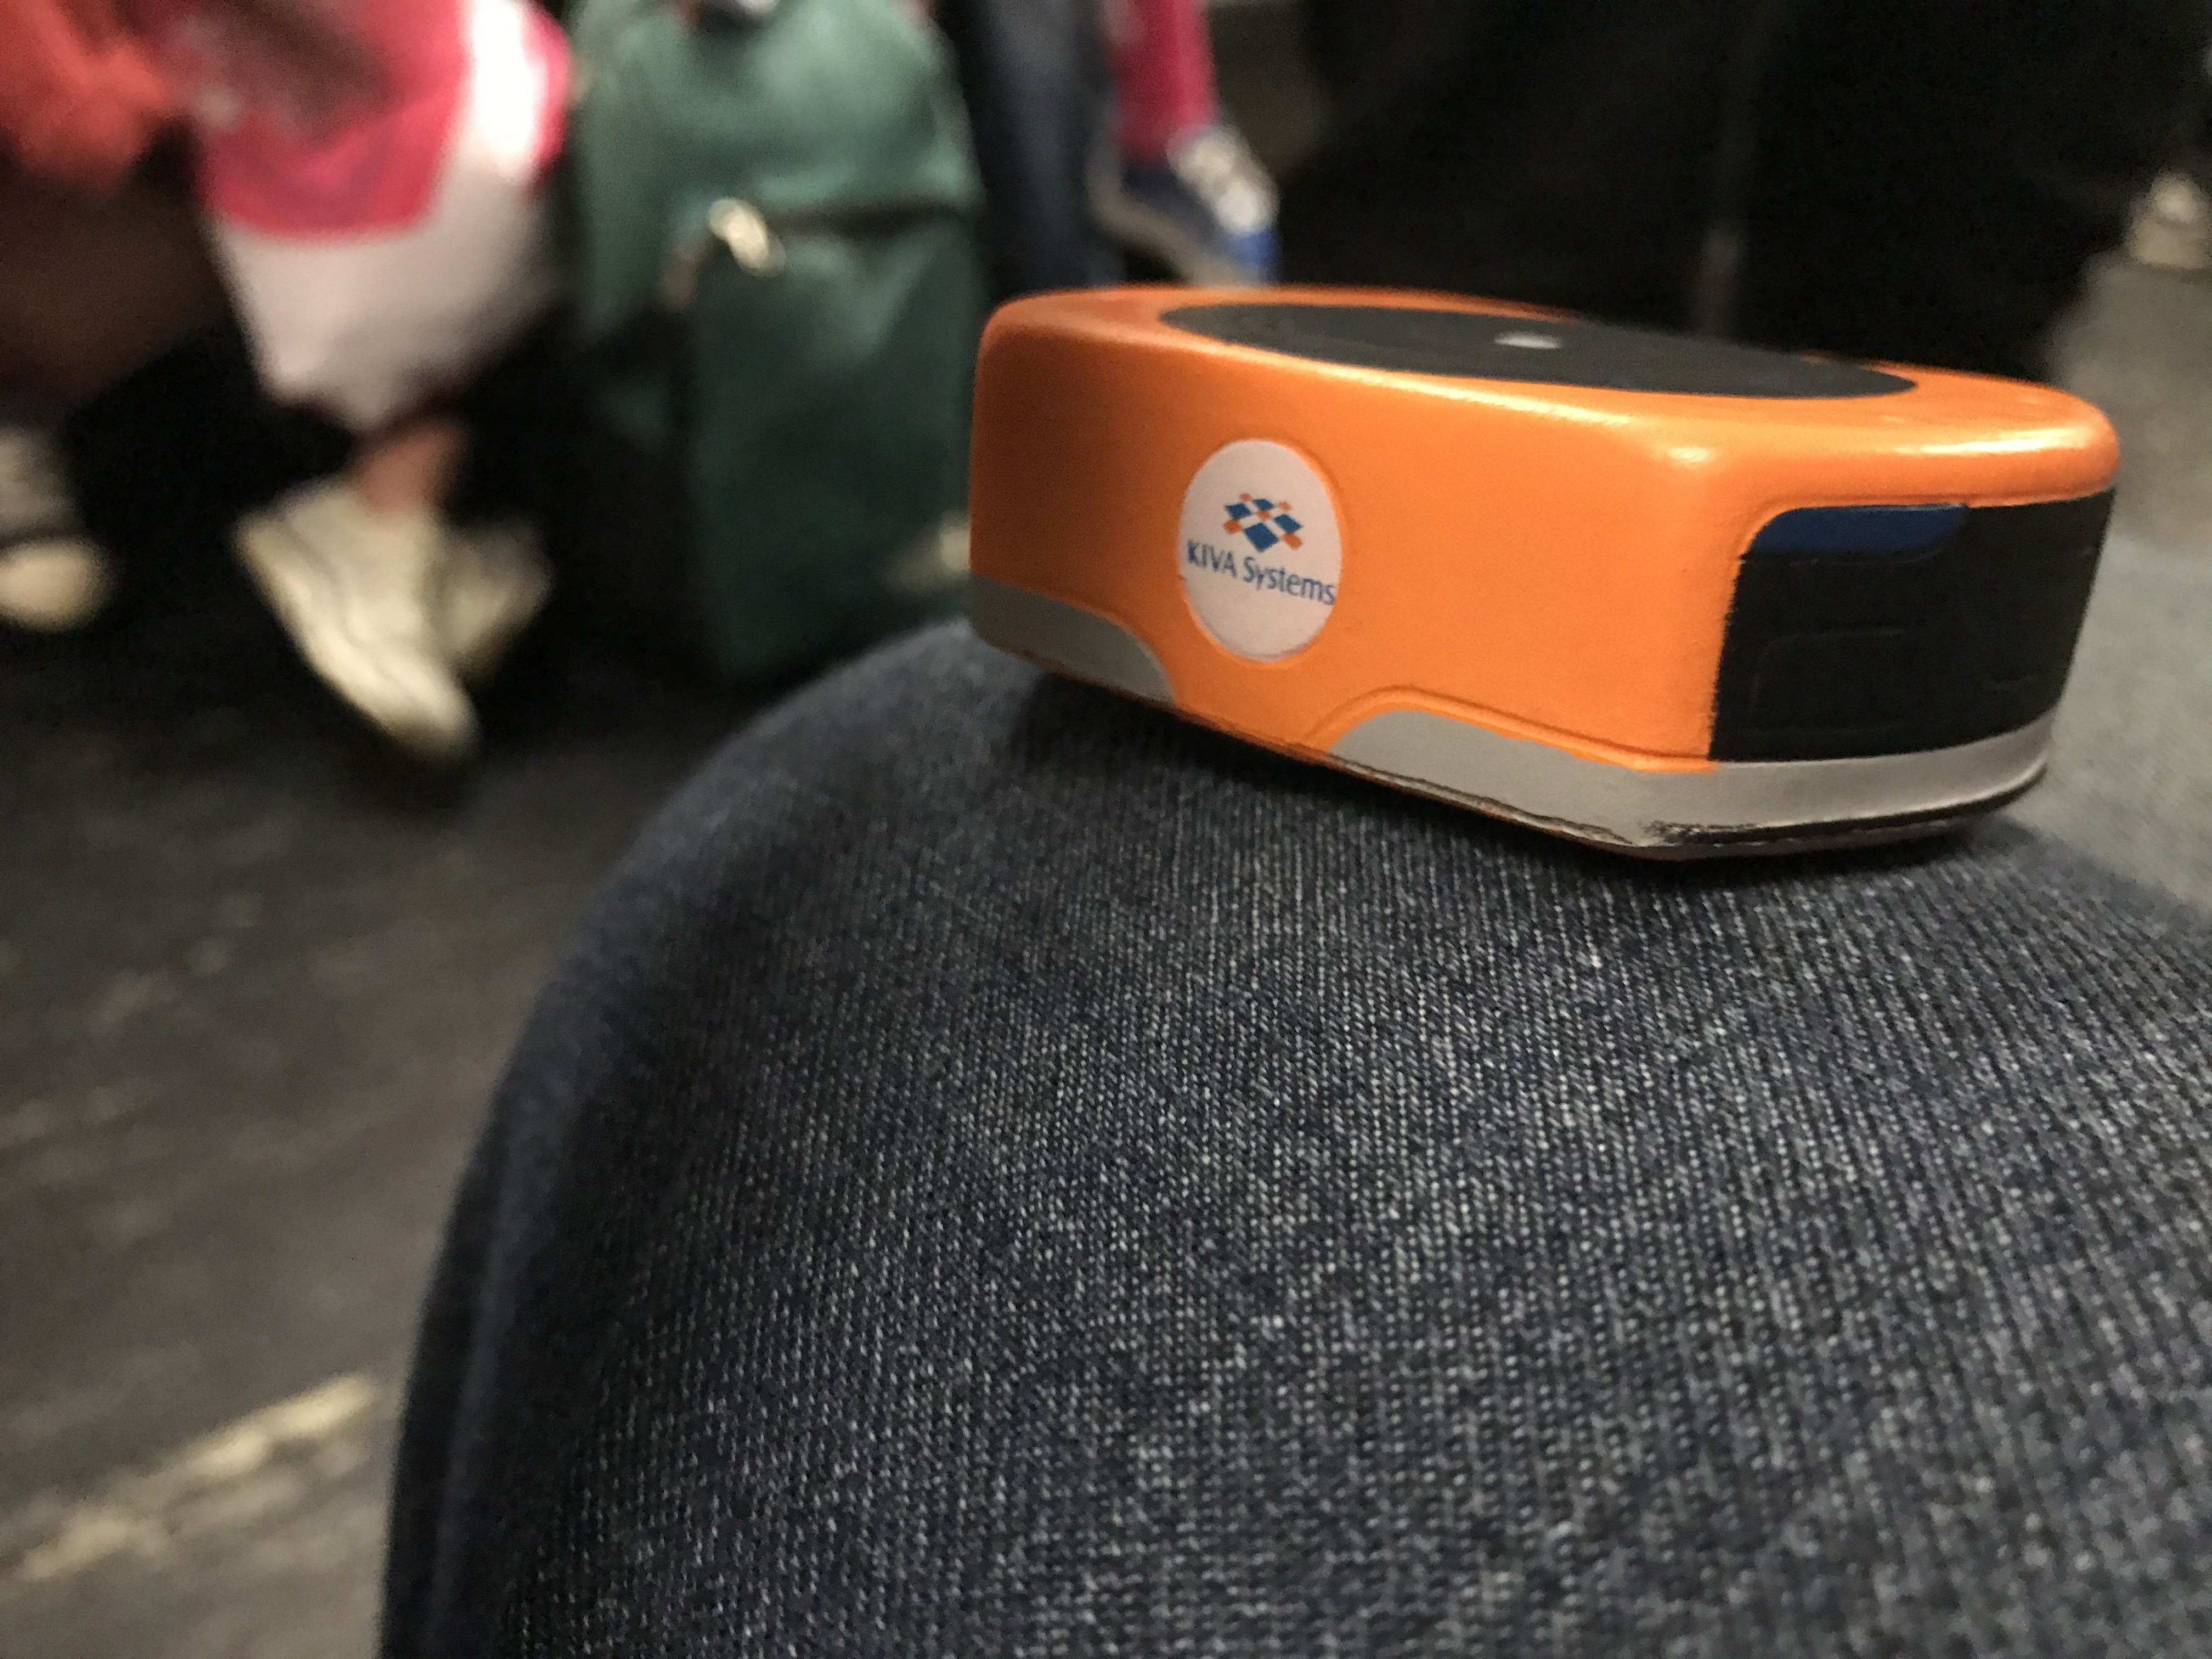amazon_bot: (939, 249, 2139, 873)
